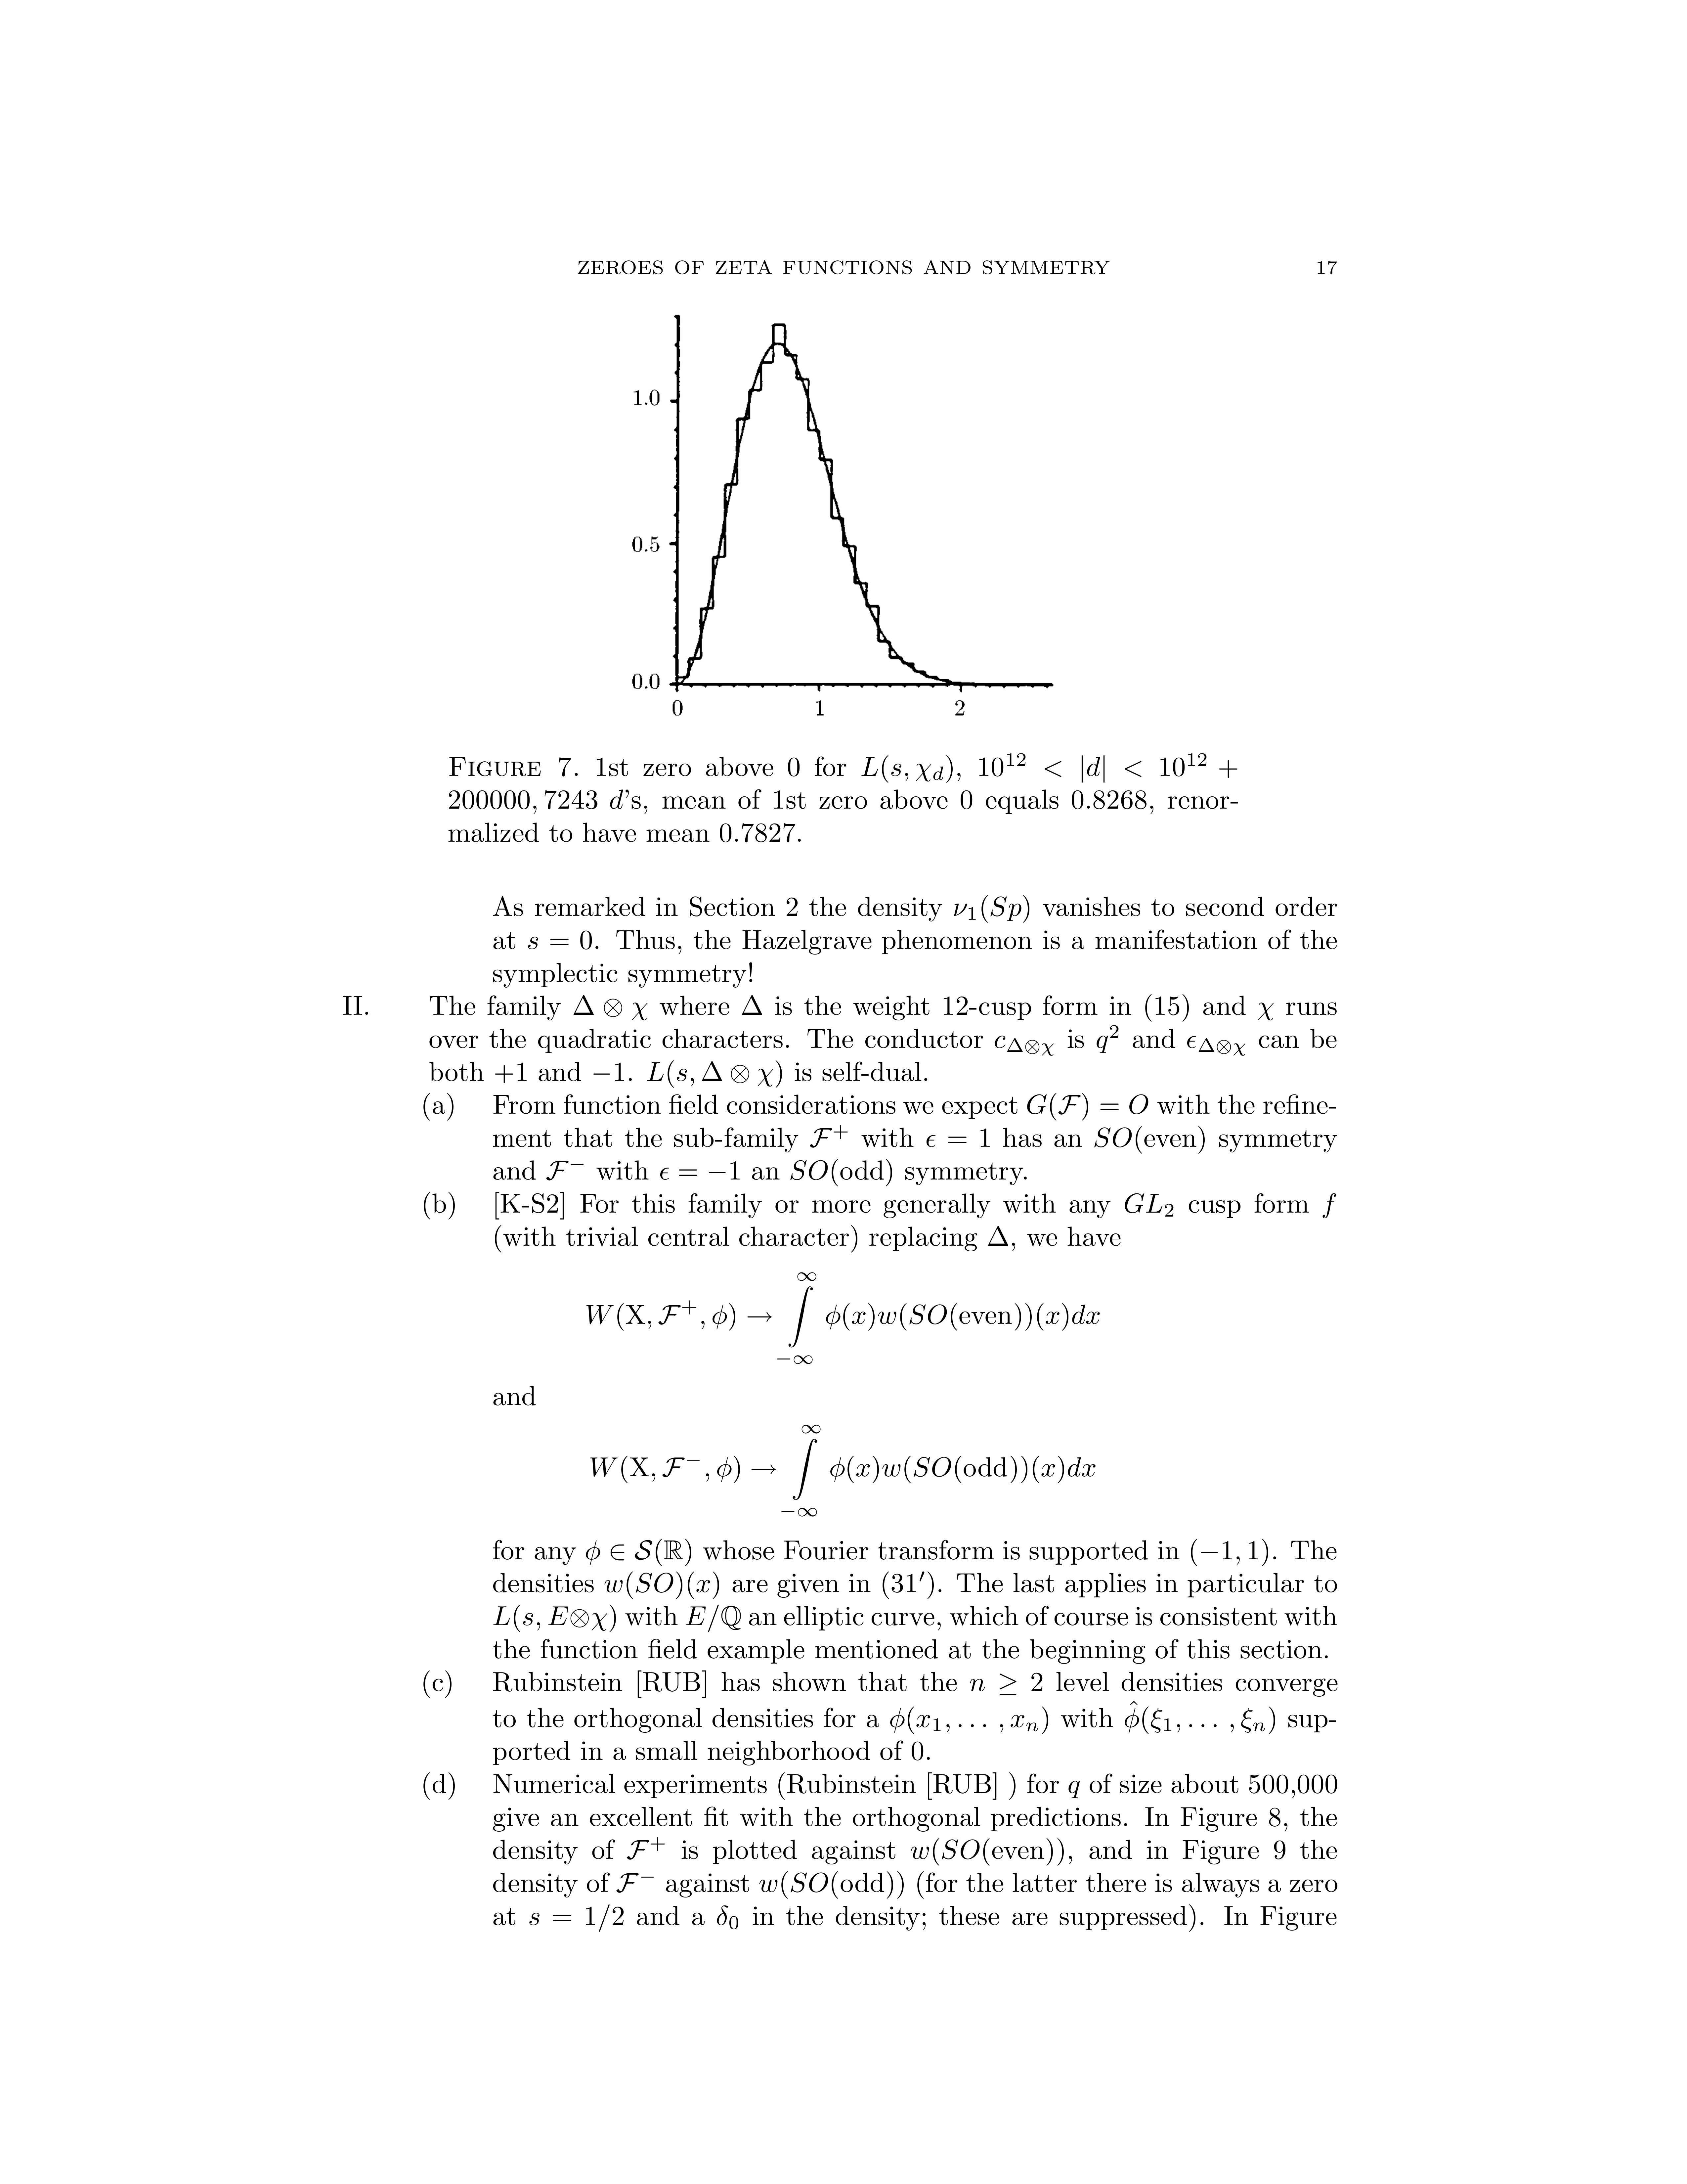maths: (587, 1273, 946, 1363), (590, 1425, 950, 1516), (980, 753, 1237, 782), (1125, 1702, 1274, 1734), (890, 1707, 1047, 1734), (647, 1060, 781, 1087), (493, 1604, 615, 1633), (1028, 1094, 1148, 1120), (604, 1572, 719, 1599), (587, 1539, 691, 1565), (530, 1904, 624, 1932), (861, 755, 960, 782), (1191, 1539, 1267, 1565), (955, 895, 1030, 922), (911, 1838, 980, 1865), (574, 994, 647, 1019), (760, 1872, 828, 1899), (1033, 1455, 1095, 1484), (1037, 1303, 1099, 1330), (686, 1604, 741, 1633), (969, 1673, 1042, 1695), (719, 823, 796, 842), (661, 1161, 739, 1179), (1072, 791, 1147, 808), (994, 1035, 1053, 1055), (528, 931, 592, 948), (1187, 1035, 1244, 1055), (1125, 1193, 1173, 1216), (927, 1129, 989, 1147), (627, 1837, 665, 1860), (810, 1126, 847, 1147), (790, 1159, 828, 1181), (1093, 1127, 1131, 1147), (546, 1161, 583, 1181), (617, 1874, 654, 1893), (494, 1062, 526, 1083), (1097, 1025, 1118, 1053), (594, 1062, 624, 1081), (718, 1906, 737, 1929), (742, 994, 762, 1014), (989, 1227, 1008, 1246), (1322, 1193, 1336, 1218), (610, 789, 622, 808), (911, 1741, 923, 1760), (1258, 1003, 1272, 1019), (789, 757, 799, 776), (1021, 1455, 1028, 1484), (960, 791, 971, 808), (1069, 1780, 1079, 1798), (897, 1872, 904, 1899), (1026, 1303, 1031, 1330), (1058, 1838, 1063, 1865)
